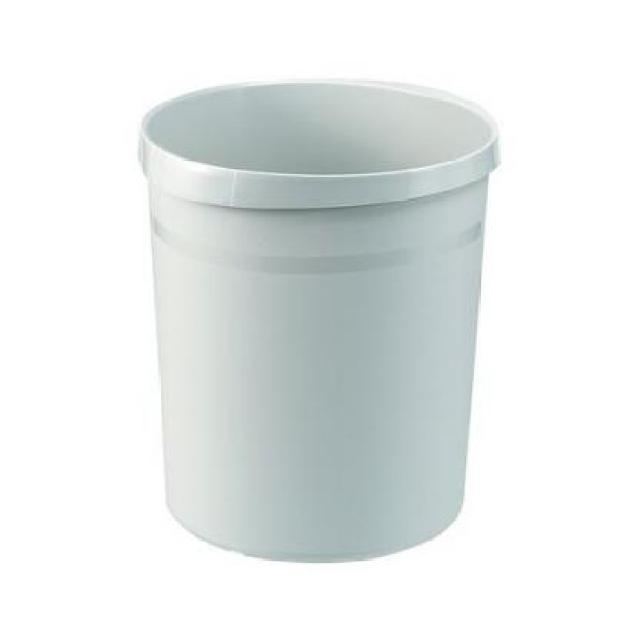dustbin: (133, 69, 504, 566)
